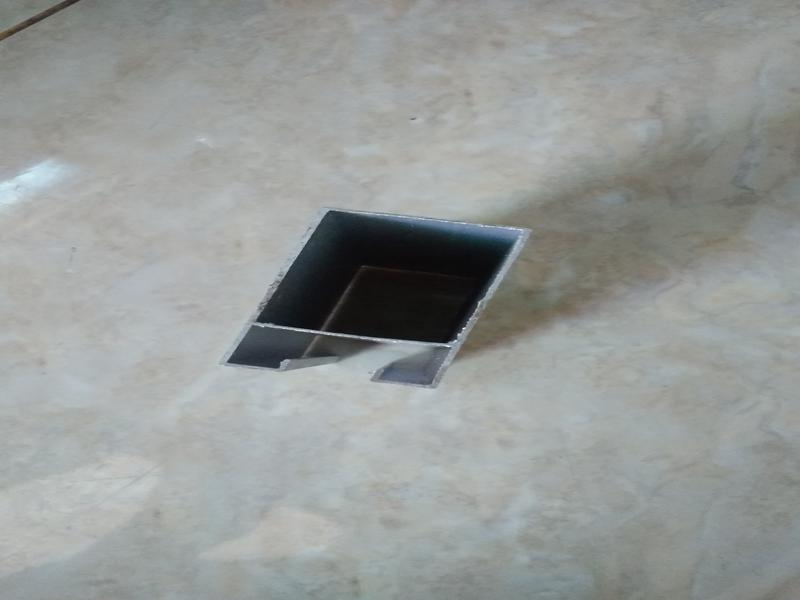Aluminium_1: (201, 172, 550, 412)
